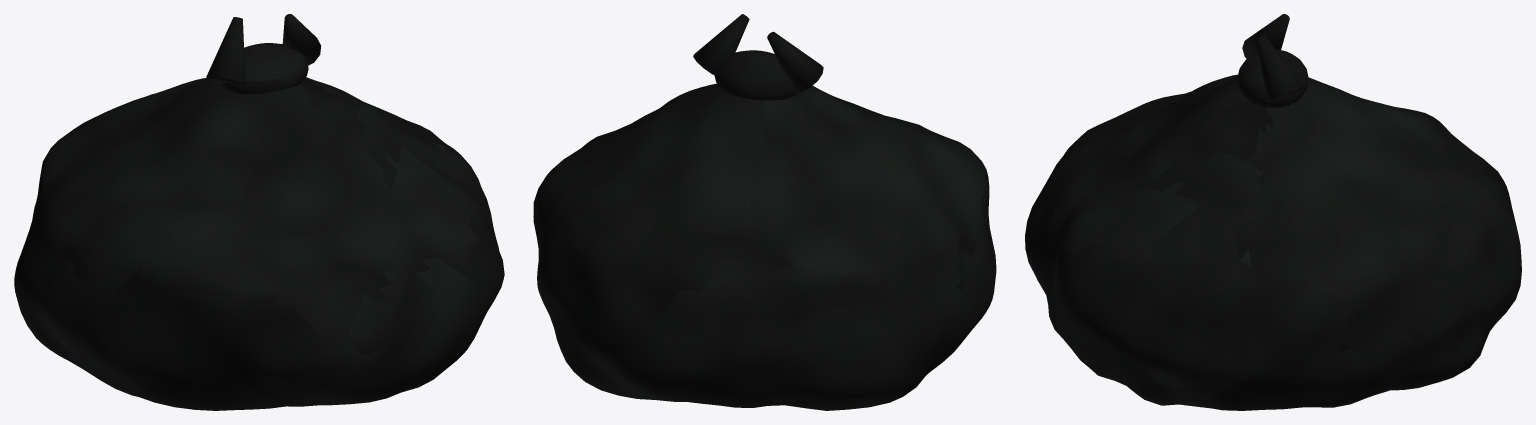
File: garbagebag.glb
3 renders of one model, left to right at view 1: azimuth 30°, elevation 25°; view 2: azimuth 150°, elevation 25°; view 3: azimuth 270°, elevation 25°, orthographic. The views are drawn at different scales.
Parts seen in each view (by area): view 1: GarbageBag; view 2: GarbageBag; view 3: GarbageBag.
Boxes of the visible parts, left/top/right/bottom form: GarbageBag: left=14, top=14, right=504, bottom=410; GarbageBag: left=533, top=14, right=996, bottom=410; GarbageBag: left=1025, top=14, right=1521, bottom=410.
Bounding box in the file's own units: 1.19 × 0.879 × 1.25.
1 material, 1 textured.
